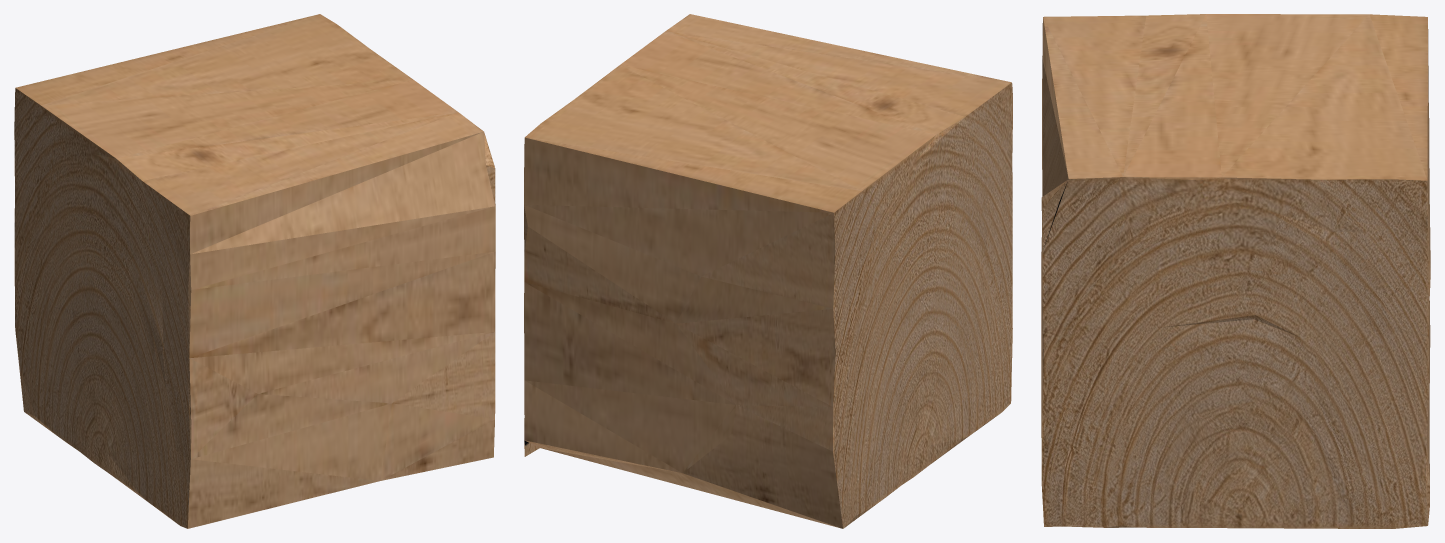
3 views of the same model, side by side, from view 1: azimuth 30°, elevation 25°; view 2: azimuth 150°, elevation 25°; view 3: azimuth 270°, elevation 25° (orthographic). The views are drawn at different scales.
Visible parts, largest first — view 1: dunnage-block; view 2: dunnage-block; view 3: dunnage-block.
Boxes of the visible parts, x1=… form: dunnage-block: x1=14, y1=14, x2=495, y2=528; dunnage-block: x1=524, y1=14, x2=1012, y2=528; dunnage-block: x1=1041, y1=14, x2=1430, y2=528.
Size of the model in its own units: 1 by 1 by 1.
Materials: 1 (1 with a texture image).
